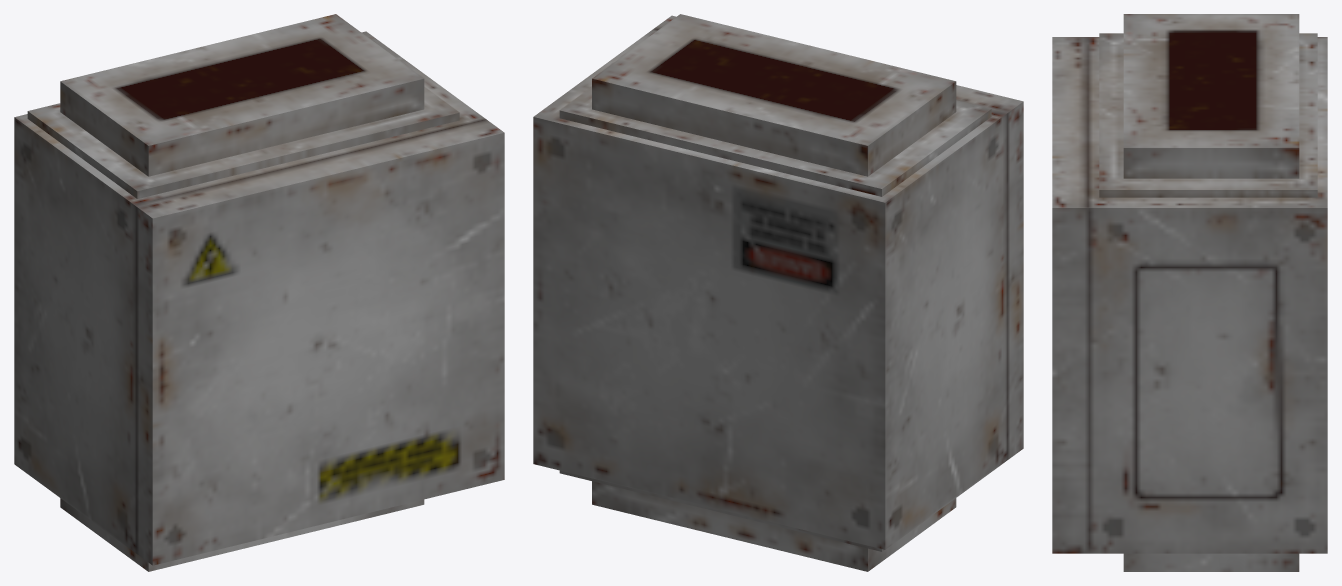
The model's file is Cable_06a_snaps011.fbx.
The picture shows the model from 3 angles, left to right: view 1: azimuth 30°, elevation 25°; view 2: azimuth 150°, elevation 25°; view 3: azimuth 270°, elevation 25°; orthographic projection.
Parts seen in each view (by area): view 1: Cable_06a_snaps011_LOD0; view 2: Cable_06a_snaps011_LOD0; view 3: Cable_06a_snaps011_LOD0.
Boxes of the visible parts, left/top/right/bottom form: Cable_06a_snaps011_LOD0: left=14, top=14, right=504, bottom=571; Cable_06a_snaps011_LOD0: left=533, top=14, right=1023, bottom=571; Cable_06a_snaps011_LOD0: left=1052, top=14, right=1327, bottom=571.
Size of what is drawn, in the model's own units: 15.56 by 18 by 10.6.
